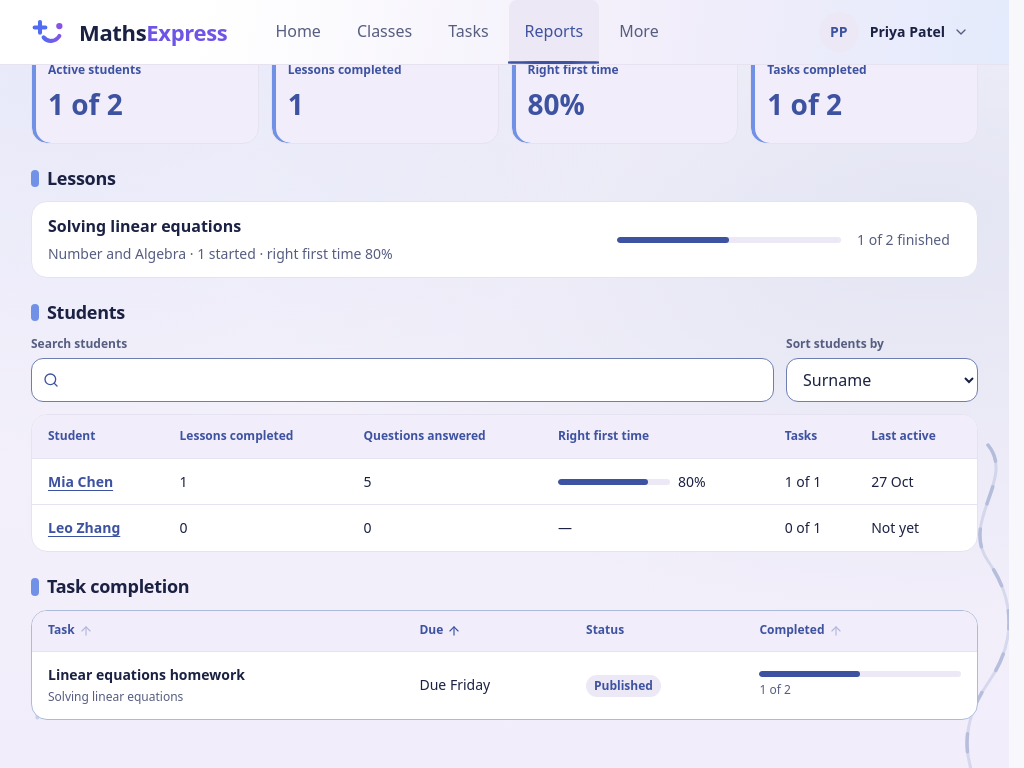
Test: teacher reports › opens one student’s attempts
(page scrolled)
What coordinates should you click on to do the following:
click the link "Mia Chen"
I would click on:
 (81, 481)
Its box is [48,472,113,491].
(page scrolled)
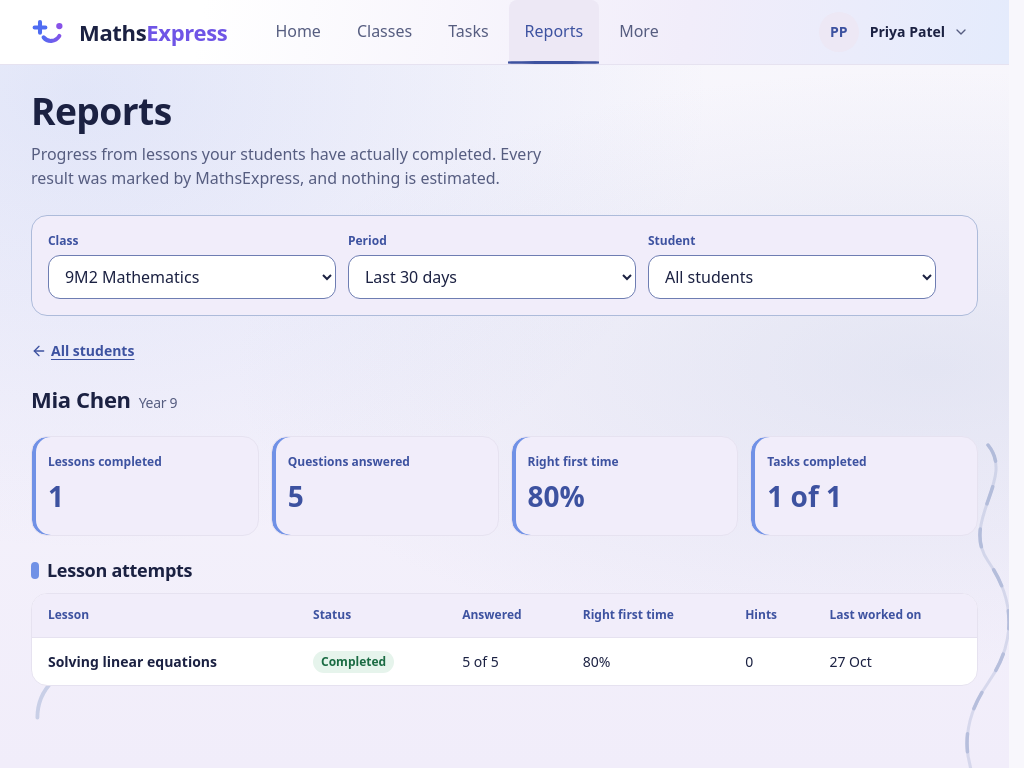
Now the row "Solving linear equations Completed 5 of 5 80% 0 27 Oct" is shown, box [32,638,977,686]
Now the link "All students" is shown, box [31,340,134,362]
